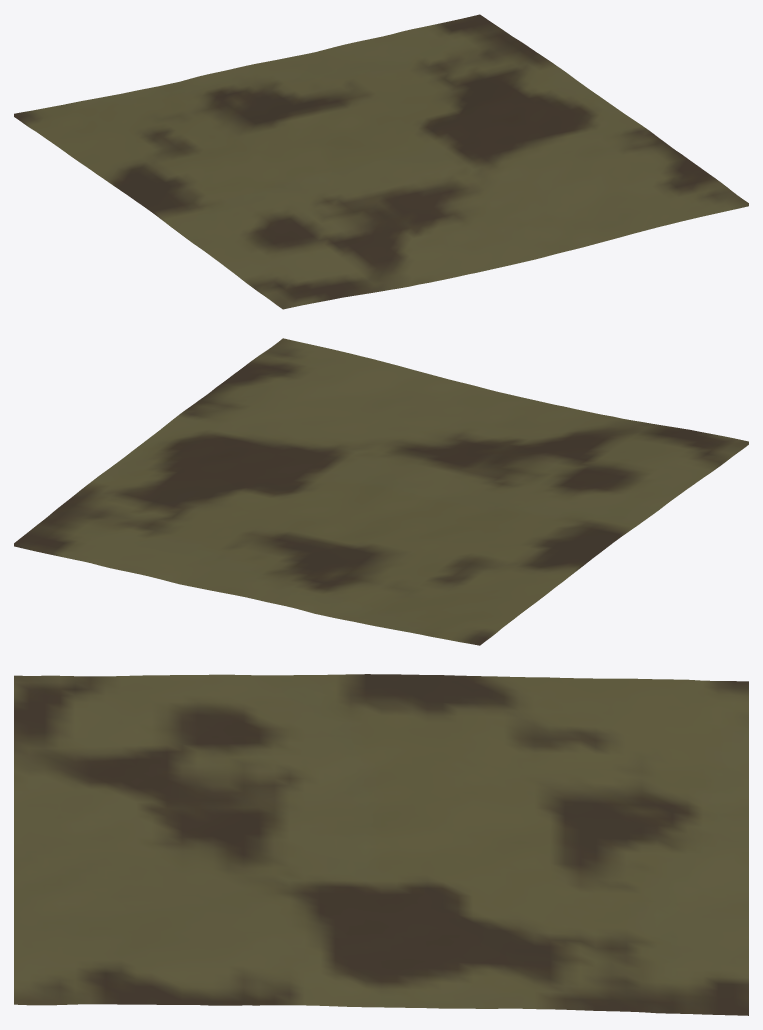
Rendered from land_m_01_03.glb.
3 renders of one model, top to bottom at view 1: azimuth 30°, elevation 25°; view 2: azimuth 150°, elevation 25°; view 3: azimuth 270°, elevation 25°, orthographic. The views are drawn at different scales.
Visible parts, largest first — view 1: land_m_01_03; view 2: land_m_01_03; view 3: land_m_01_03.
Part boxes in pixels (x1,y1,x2,y2): land_m_01_03: (14,14,748,309); land_m_01_03: (14,338,748,645); land_m_01_03: (14,674,748,1015).
Size of the model in its own units: 960 by 44.83 by 960.
